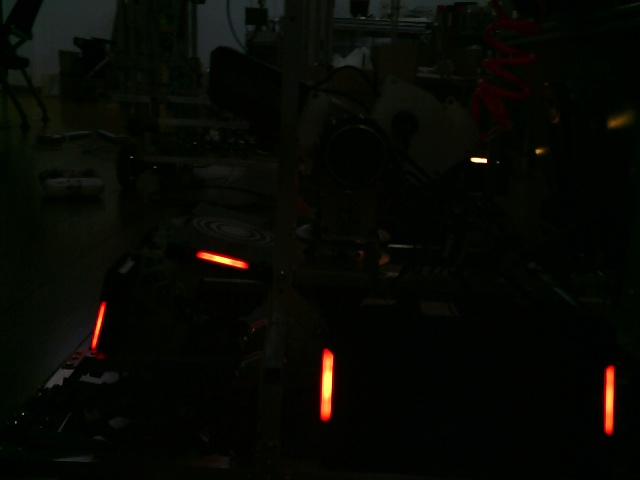lamp: (318, 347, 336, 421), (602, 365, 620, 437), (92, 300, 109, 354)
